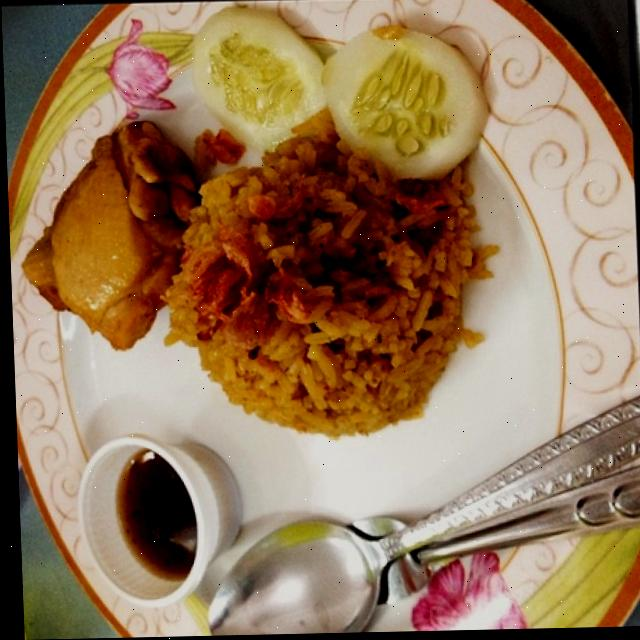米饭主食: (1, 7, 619, 640)
